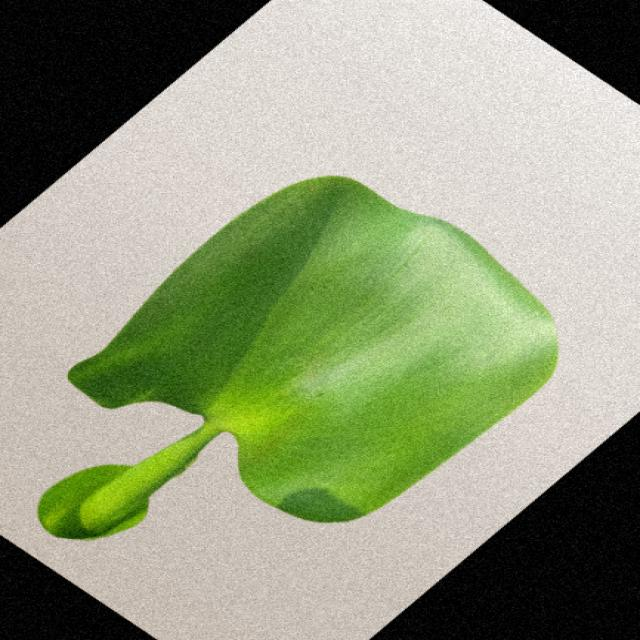daun sehat: (37, 176, 555, 539)
